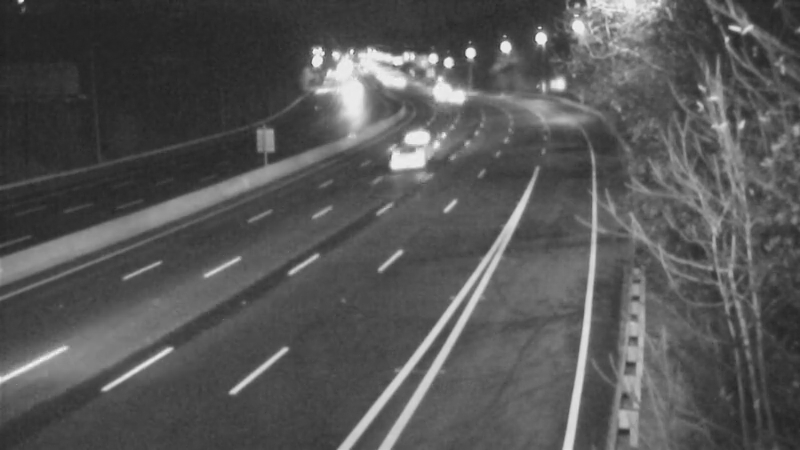vehicle: (414, 63, 464, 113), (434, 70, 484, 120), (393, 119, 443, 169), (326, 71, 376, 121)
